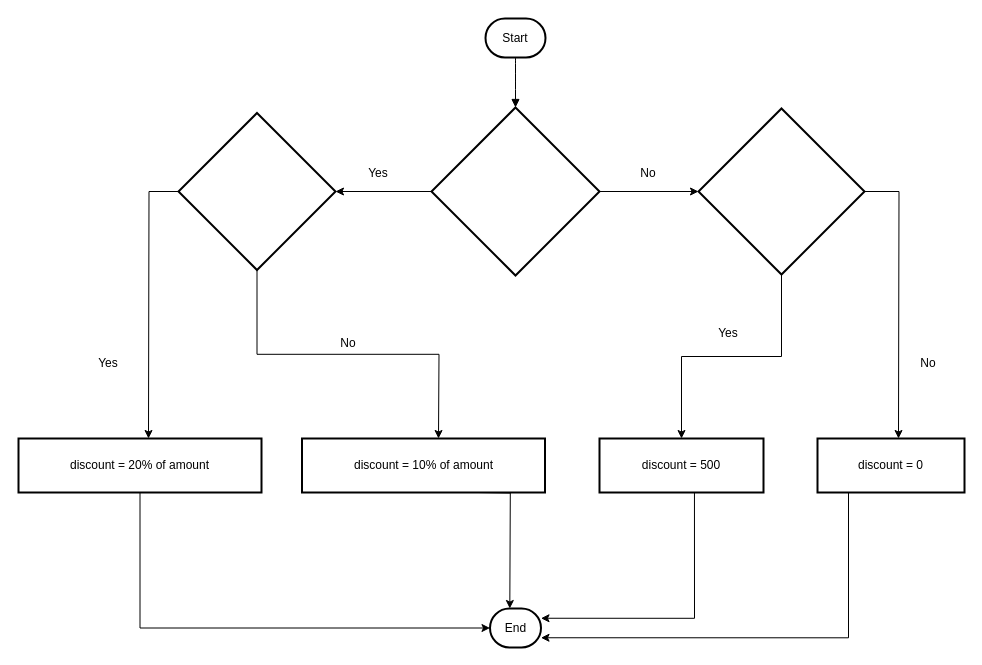
Some shapes in this 982 by 665 pixel diagram are drawn without their labels. The shapes that lost their labels are listed below. From the top down, each one's centre as x and y in pixels, then its label:
At (x=256, y=191): "isMember == 1".
At (x=515, y=191): "amount >= 5000".
At (x=781, y=191): "hasCoupon == 1".
